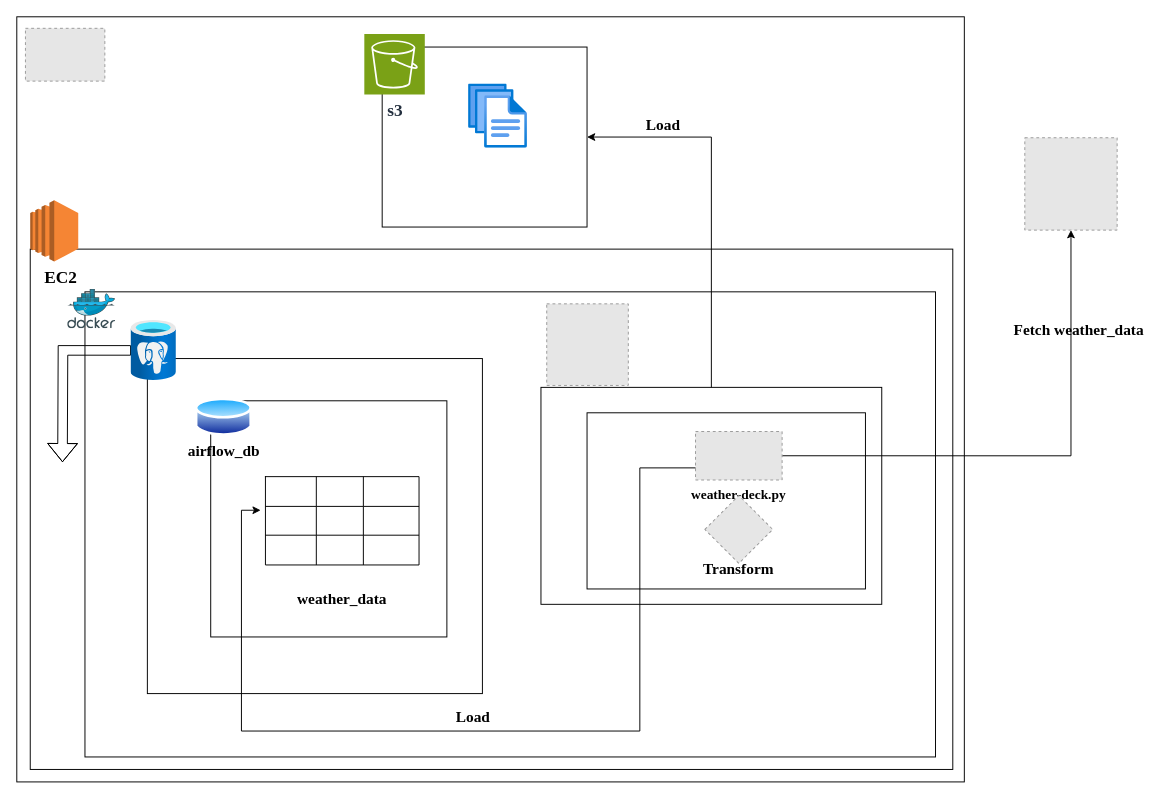
Some shapes in this 1161 by 799 pixel diagram are drawn without their labels. Grey dashed boxes stand in for pictures. Here are the shapes that lost their labels. From the top down, the centre of each, then its label:
the point at 497,116: CSV Files containing data
the point at 153,350: Postgress Server
